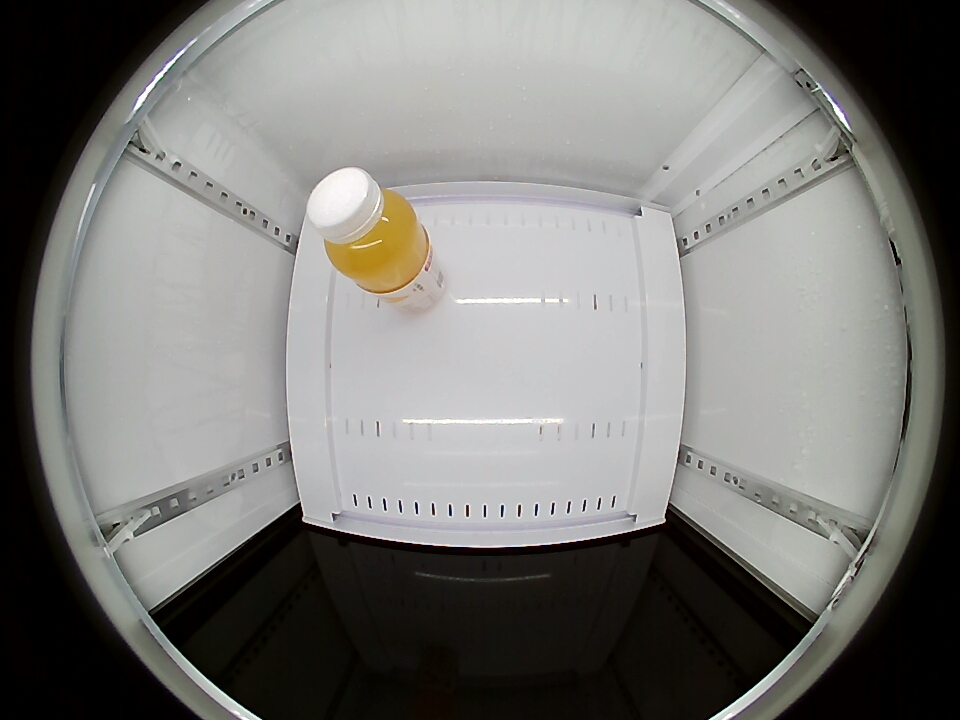weic: (308, 168, 430, 294)
